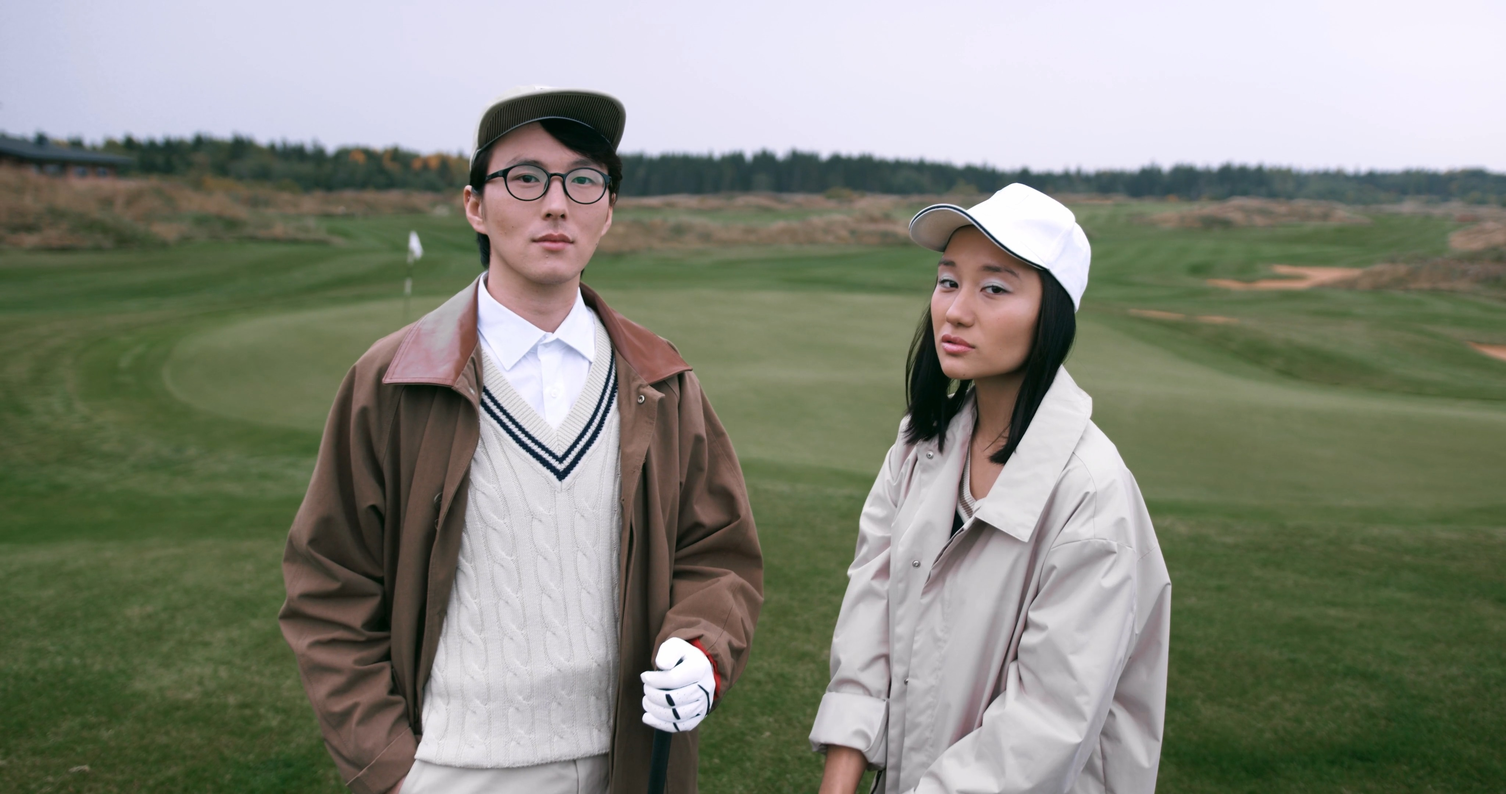gloves: (632, 634, 730, 750)
